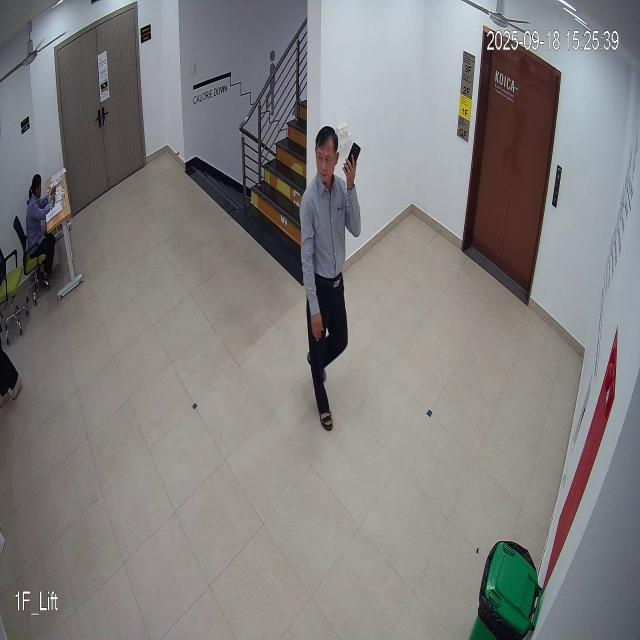face: (311, 123, 340, 185)
